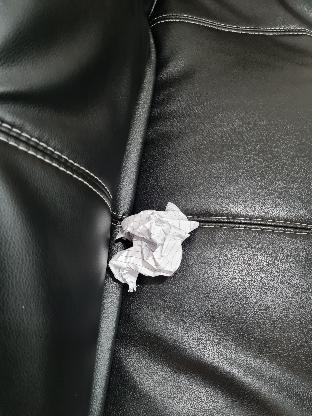Paper: (113, 202, 199, 292)
